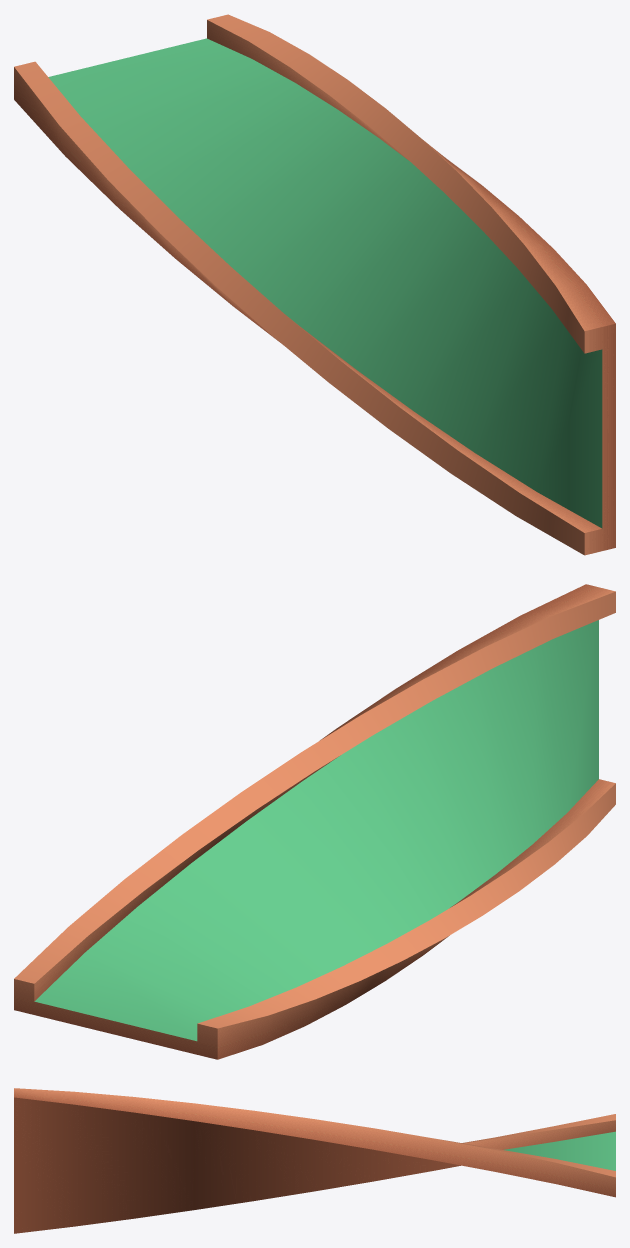
Rendered from spline-default-straight-skew-right-side.glb.
The picture shows the model from 3 angles, top to bottom: view 1: azimuth 30°, elevation 25°; view 2: azimuth 150°, elevation 25°; view 3: azimuth 270°, elevation 25°; orthographic projection. The views are drawn at different scales.
Parts seen in each view (by area): view 1: spline-default-straight-skew-right-side; view 2: spline-default-straight-skew-right-side; view 3: spline-default-straight-skew-right-side.
Part boxes in pixels (x1,y1,x2,y2): spline-default-straight-skew-right-side: (14,14,615,555); spline-default-straight-skew-right-side: (14,584,615,1059); spline-default-straight-skew-right-side: (14,1088,615,1233).
Bounding box in the file's own units: 1.02 × 1.02 × 4.
1 material, 1 textured.
